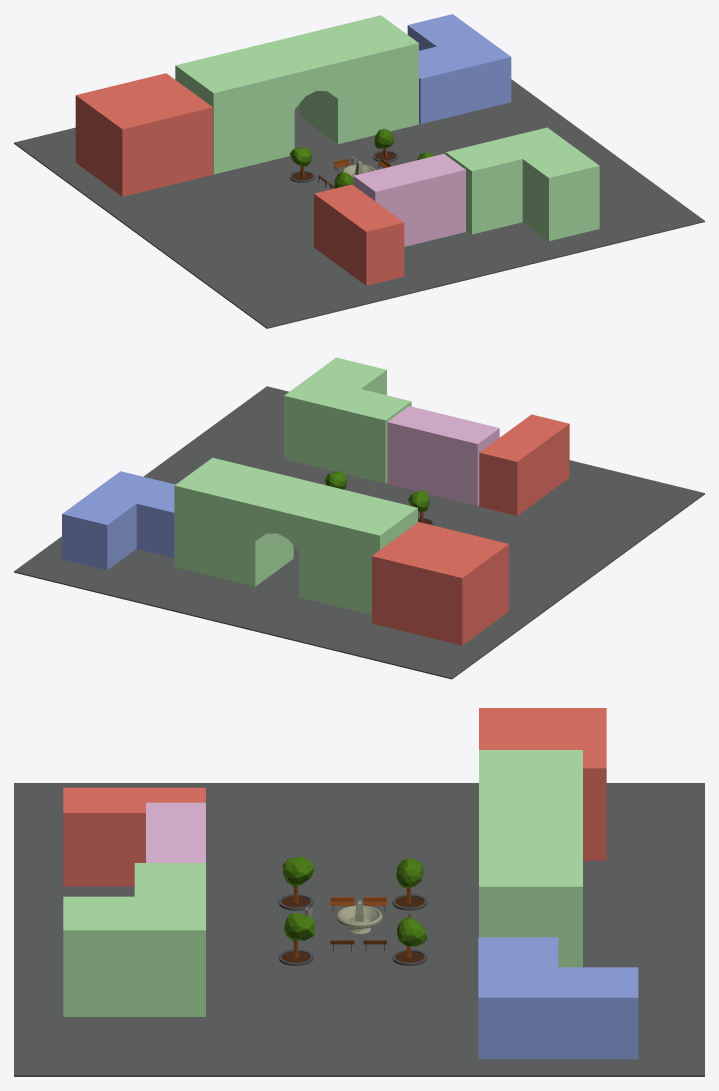
File: OverRat Map.fbx
The picture shows the model from 3 angles, top to bottom: view 1: azimuth 30°, elevation 25°; view 2: azimuth 150°, elevation 25°; view 3: azimuth 270°, elevation 25°; orthographic projection. The views are drawn at different scales.
Parts seen in each view (by area): view 1: Cube.081, Cube.083, Cube.080, Cube.070, Cube.077, Cube.082, Cube.079, Cube.078, Cube.076, Cube.073, Cube.071, Cube (+3 smaller); view 2: Cube.081, Cube.083, Cube.080, Cube.077, Cube.082, Cube.078, Cube.072, Cube.074, Cube.079, Cube.070, Cube.075, Cube.076 (+3 smaller); view 3: Cube.071, Cube.070, Cube.081, Cube.080, Cube, Cube.076, Cube.082, Cube.072, Cube.074, Cube.075, Cube.073, Cube.077 (+8 smaller).
Part boxes in pixels (x1,y1,x2,y2): Cube.081: (175,15,418,174); Cube.083: (75,73,212,196); Cube.080: (446,127,599,241); Cube.070: (98,168,313,266); Cube.077: (182,234,412,328); Cube.082: (407,14,511,123); Cube.079: (314,184,404,285); Cube.078: (353,154,465,246); Cube.076: (515,159,704,257); Cube.073: (395,224,558,293); Cube.071: (391,97,619,164); Cube: (245,135,419,219); Cube.081: (174,457,417,614); Cube.083: (372,522,508,645); Cube.080: (284,357,411,483); Cube.077: (475,460,704,555); Cube.082: (62,471,175,570); Cube.078: (387,406,499,506); Cube.072: (160,557,349,643); Cube.074: (306,610,536,679); Cube.079: (479,414,569,515); Cube.070: (458,519,620,617); Cube.075: (14,536,203,607); Cube.076: (183,386,335,482); Cube.071: (244,977,474,1076); Cube.070: (244,783,474,880); Cube.081: (479,750,582,967); Cube.080: (63,863,205,1016); Cube: (244,880,474,977); Cube.076: (14,977,244,1076); Cube.082: (478,937,638,1059); Cube.072: (474,880,704,977); Cube.074: (474,783,704,880); Cube.075: (474,977,704,1076); Cube.073: (14,880,244,977); Cube.077: (14,783,244,880).
Size of the model in its own units: 18000 by 3455 by 18000.
